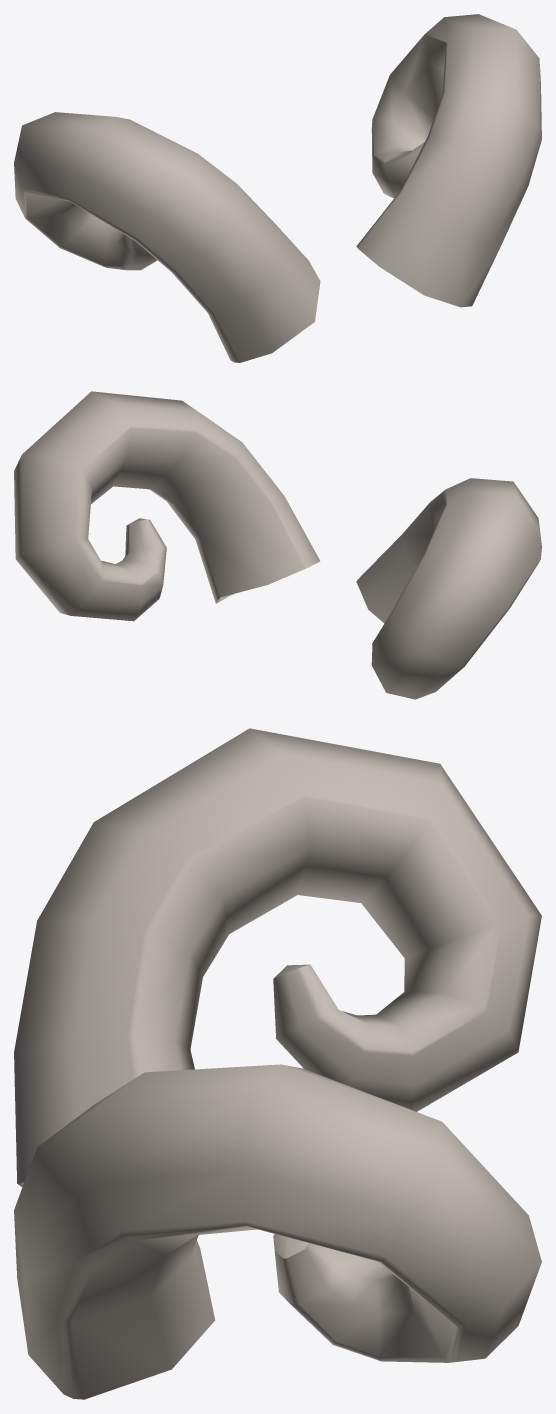
Rendered from hat_horn_fix.fbx.
The picture shows the model from 3 angles, top to bottom: view 1: azimuth 30°, elevation 25°; view 2: azimuth 150°, elevation 25°; view 3: azimuth 270°, elevation 25°; orthographic projection. The views are drawn at different scales.
Parts seen in each view (by area): view 1: Horn; view 2: Horn; view 3: Horn.
Boxes of the visible parts, box(x1,y1,x2,y2) form: Horn: box(14, 14, 541, 362); Horn: box(14, 391, 541, 699); Horn: box(14, 728, 541, 1399).
Bounding box in the file's own units: 0.9102 × 0.3869 × 0.4786.
